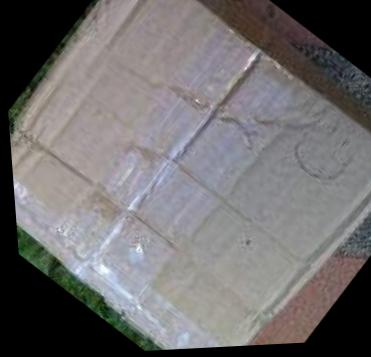cardboard: (12, 0, 370, 356)
